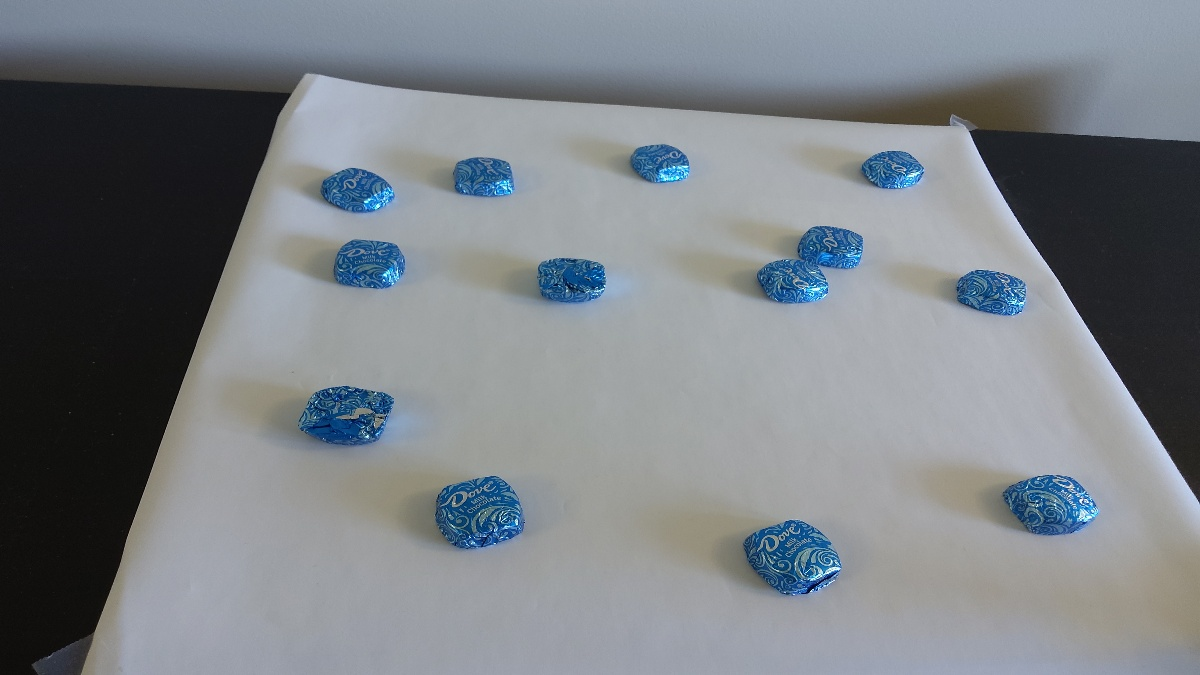chocolate_blue: (746, 514, 850, 607), (992, 462, 1104, 543), (435, 473, 529, 556), (295, 383, 401, 455), (531, 250, 623, 315), (749, 253, 833, 315), (952, 263, 1036, 320), (328, 236, 411, 291), (321, 162, 400, 218), (791, 216, 868, 272), (851, 145, 928, 194), (625, 137, 696, 187), (446, 155, 520, 199)
